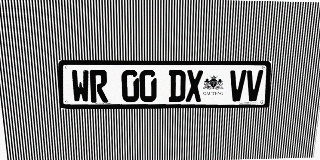0: (121, 70, 139, 102), (139, 70, 156, 102)
D: (168, 70, 186, 102)
R: (89, 70, 108, 103)
V: (228, 70, 247, 101), (245, 70, 263, 101)
W: (71, 70, 90, 103)
X: (186, 70, 203, 102)
